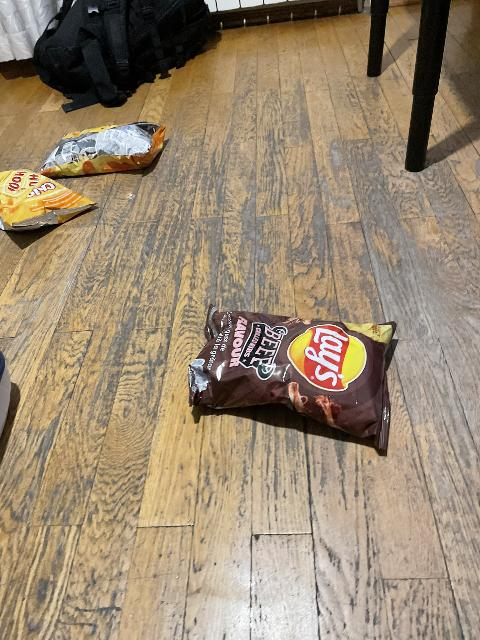Chio Cascaval 125g: (39, 121, 167, 176)
Chio Hula Hoops Cheese 70g: (0, 169, 98, 229)
Lays Beef Grilled Ribs 125g: (190, 307, 394, 448)
